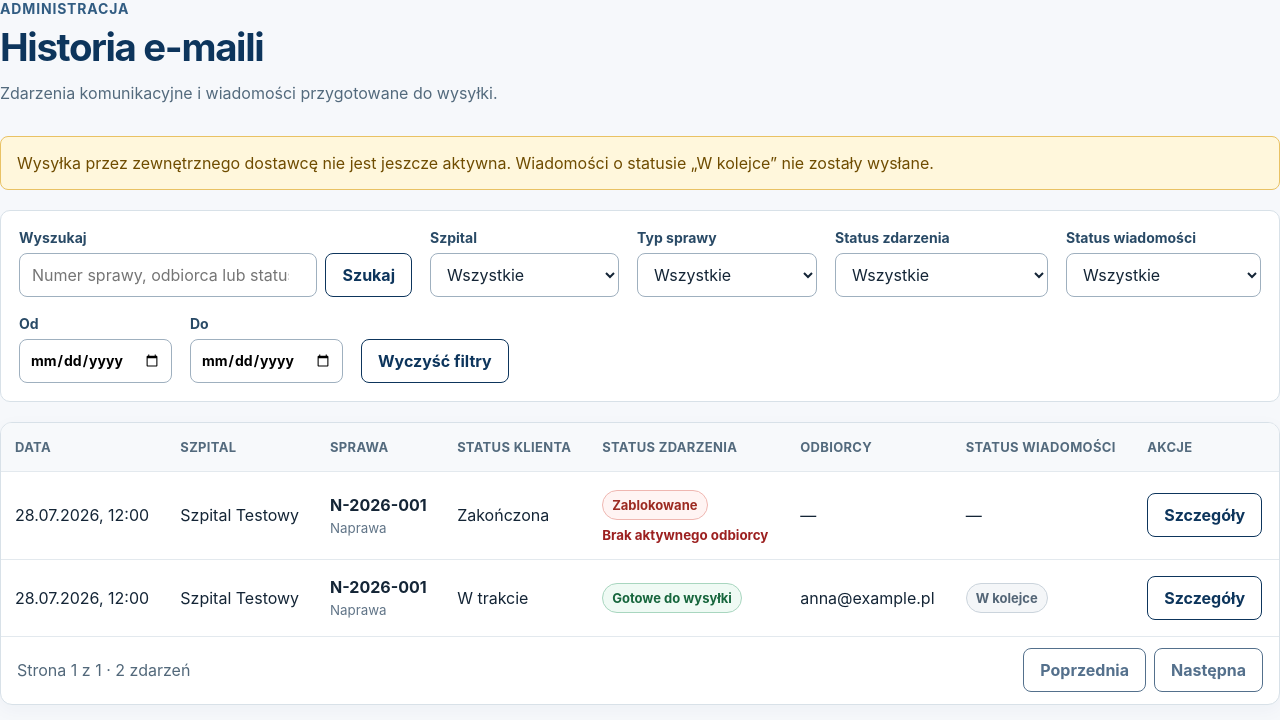
Scenario: Admin e-mail history › opens details and shows deliveries
The width and height of the screenshot is (1280, 720).
Click the button "Szczegóły" in the row of "W trakcie" at (1205, 598), box [1147,576,1262,620]
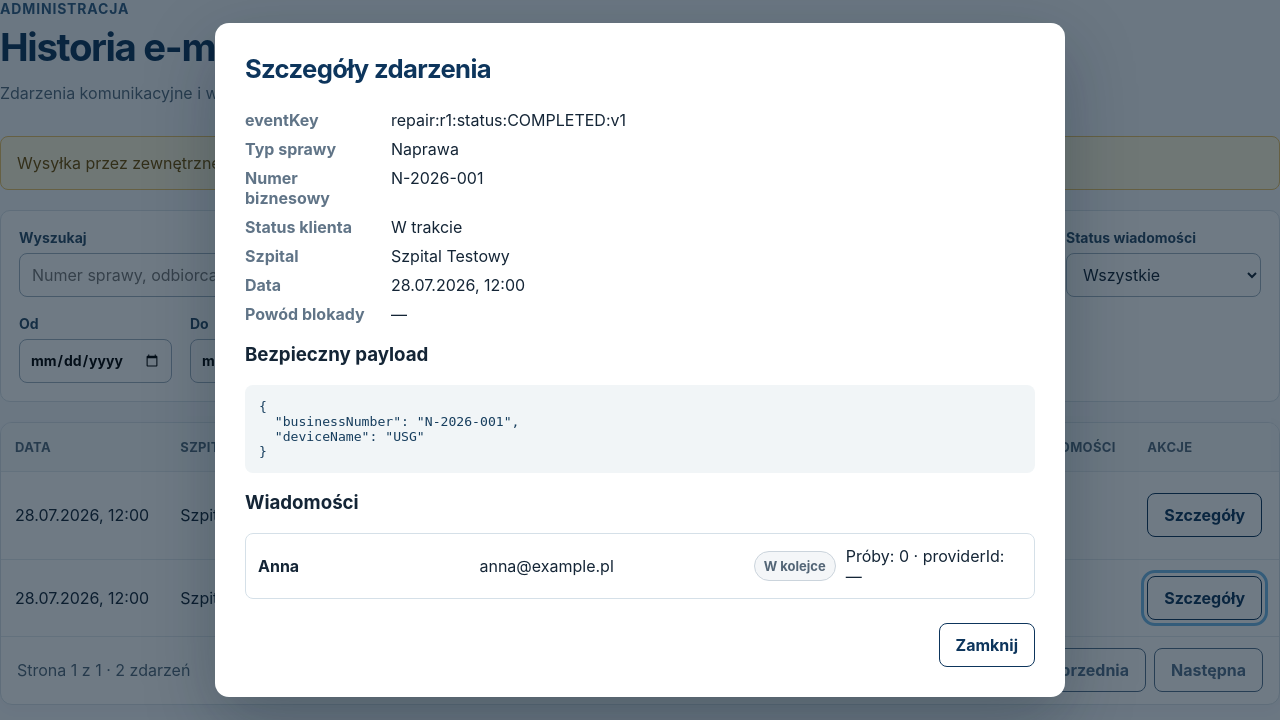
Expected: the text "anna@example.pl" is shown 2 times, [786,560,952,636]; [480,556,614,576]
Result: the dialog "Szczegóły zdarzenia" is shown
Result: the text "Próby: 0 · providerId: —" is shown at [846,546,1022,586]
